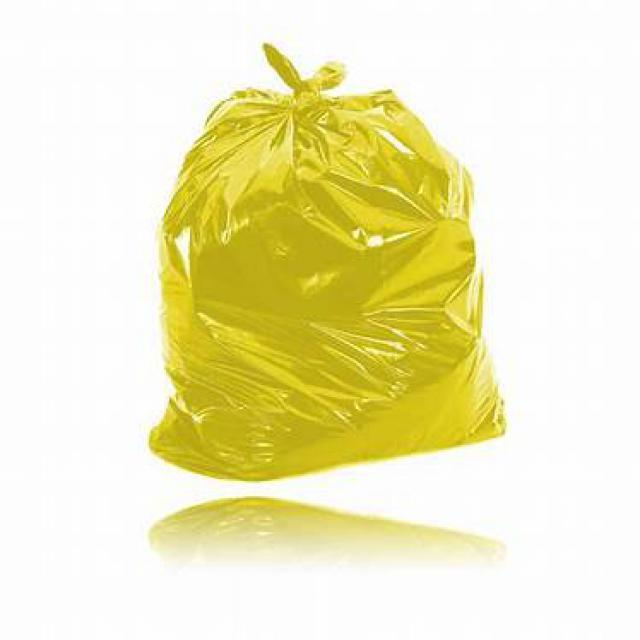waste: (152, 41, 514, 472)
